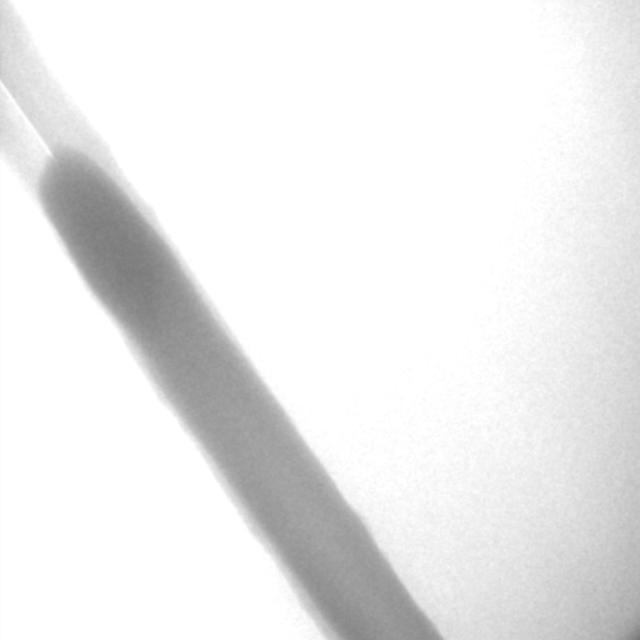broken arc: (1, 83, 55, 157)
